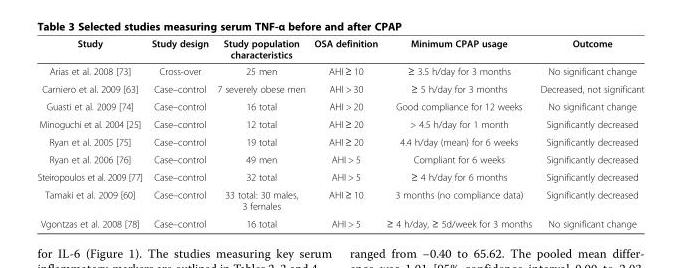table: (36, 37, 643, 229)
table column: (381, 37, 535, 229), (36, 37, 146, 229), (535, 37, 643, 229), (212, 37, 309, 229), (309, 37, 381, 229), (146, 37, 212, 229)
table column header: (36, 37, 643, 62)
table row: (36, 185, 643, 214), (36, 37, 643, 62), (36, 79, 643, 97), (36, 114, 643, 132), (36, 132, 643, 150), (36, 167, 643, 185), (36, 62, 643, 79), (36, 97, 643, 114), (36, 150, 643, 167), (36, 214, 643, 229)
